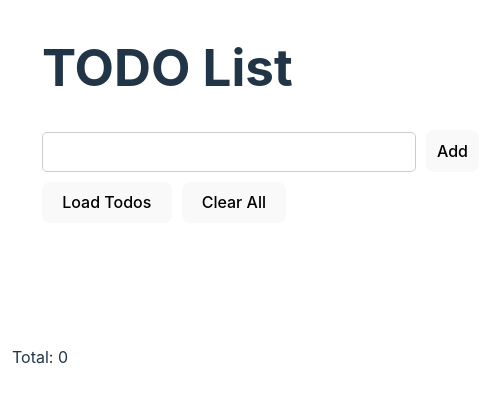
Test: TodoApp › adds a new todo when form is submitted
Type "New Todo Item" into the field at (229,152), box x1=42 y1=132 x2=416 y2=172
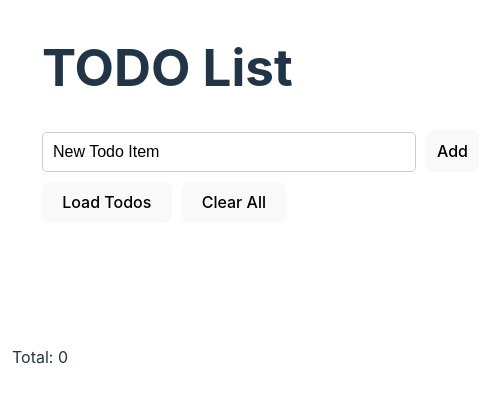
Click the button "Add" at (452,151), box x1=426 y1=130 x2=479 y2=172
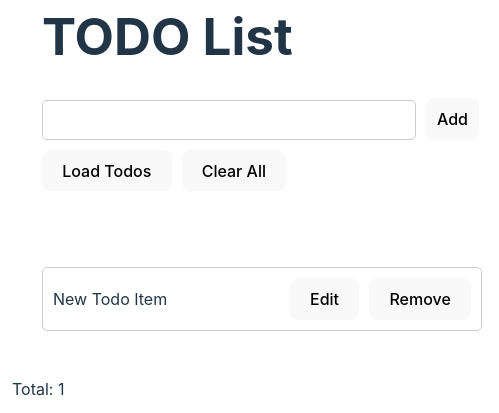
Expected: the text "New Todo Item" is shown, x1=53 y1=287 x2=167 y2=311
